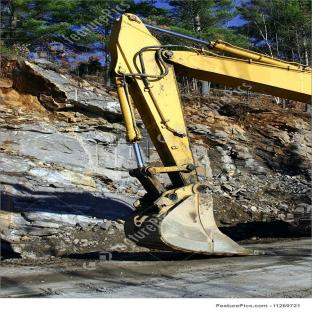ExcavationMachinery: (94, 6, 312, 256)
